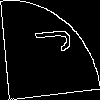J: (25, 25, 72, 56)
